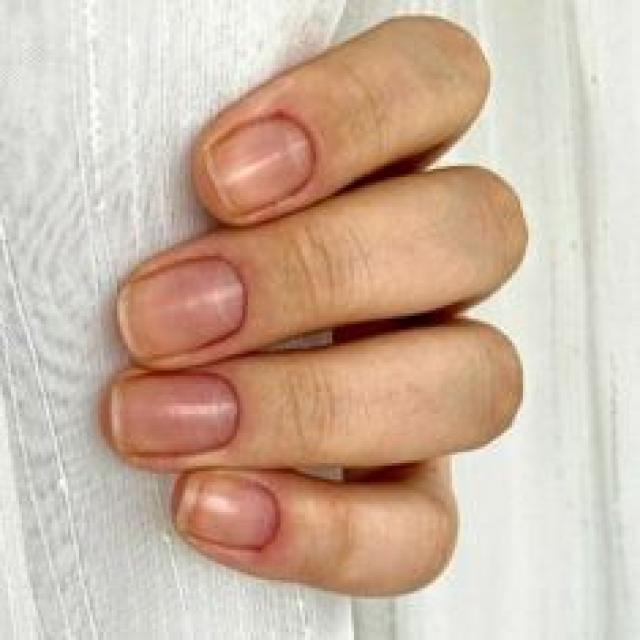Fingernail: (118, 260, 242, 358), (112, 373, 238, 457), (207, 117, 313, 214), (177, 476, 277, 548)
